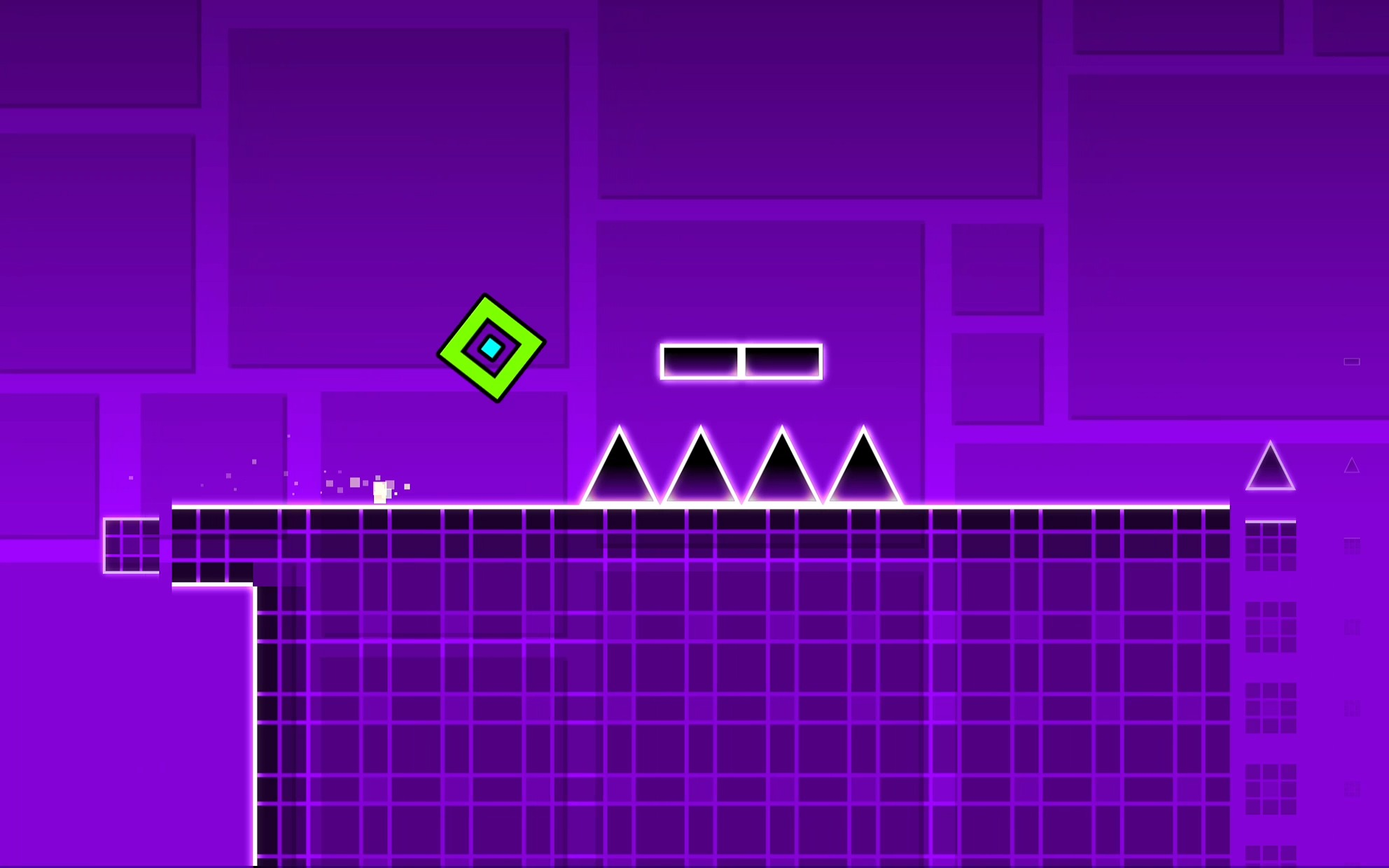Block2: (255, 506, 1302, 868), (172, 506, 258, 580), (102, 516, 161, 573)
Block3: (739, 342, 820, 383), (655, 343, 743, 380)
Player: (437, 294, 545, 400)
Spike: (827, 426, 902, 502), (582, 426, 657, 502), (663, 427, 736, 501), (746, 427, 819, 501), (1246, 441, 1295, 489)
